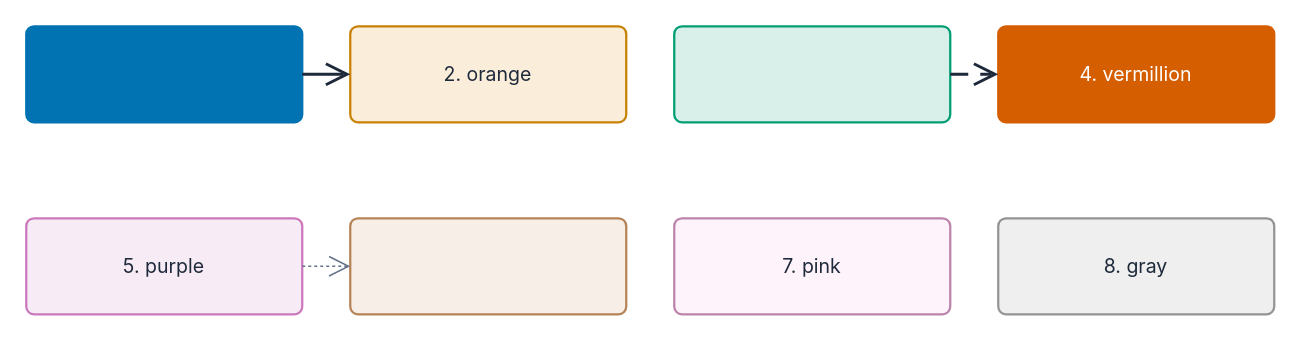
Image size: 1302x342. Some labels were removed from this diagram. Each missing label, with the centre of its shape:
1. blue: pixel 163 73
3. green: pixel 811 73
6. brown: pixel 487 265
